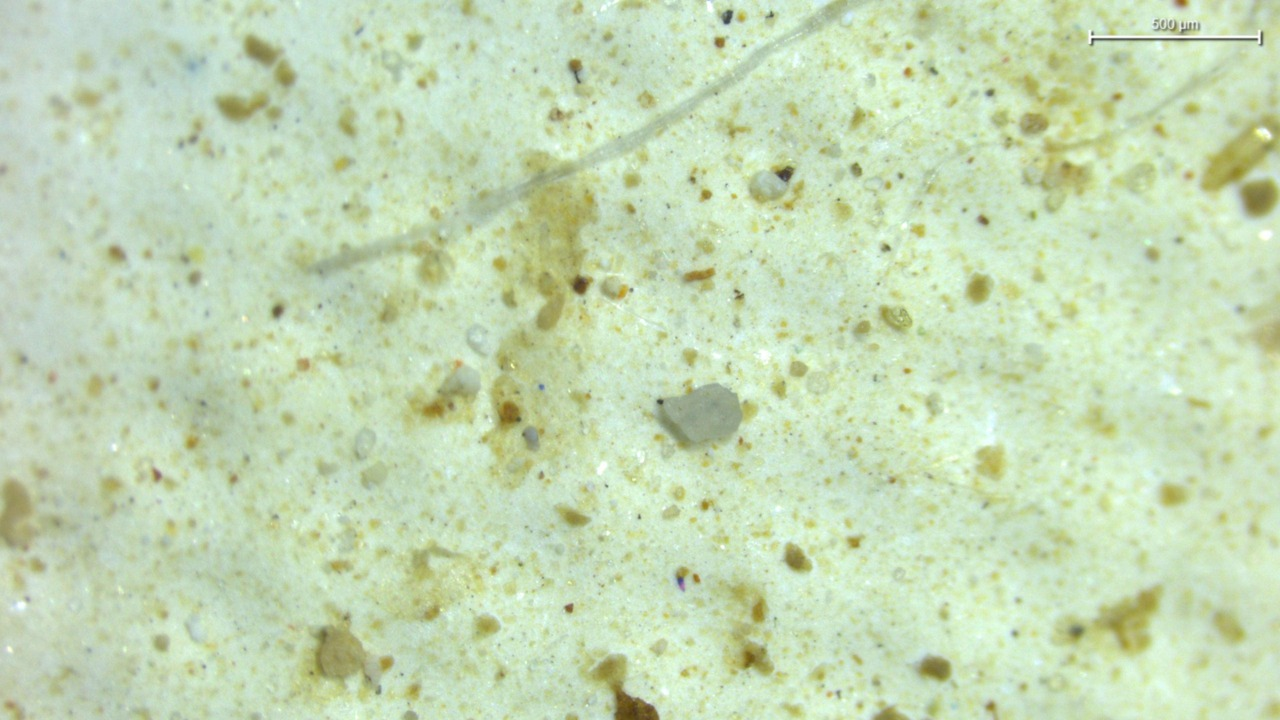microplastic_fragment: (657, 383, 743, 443), (439, 365, 481, 396), (749, 171, 788, 201), (354, 428, 376, 460)
